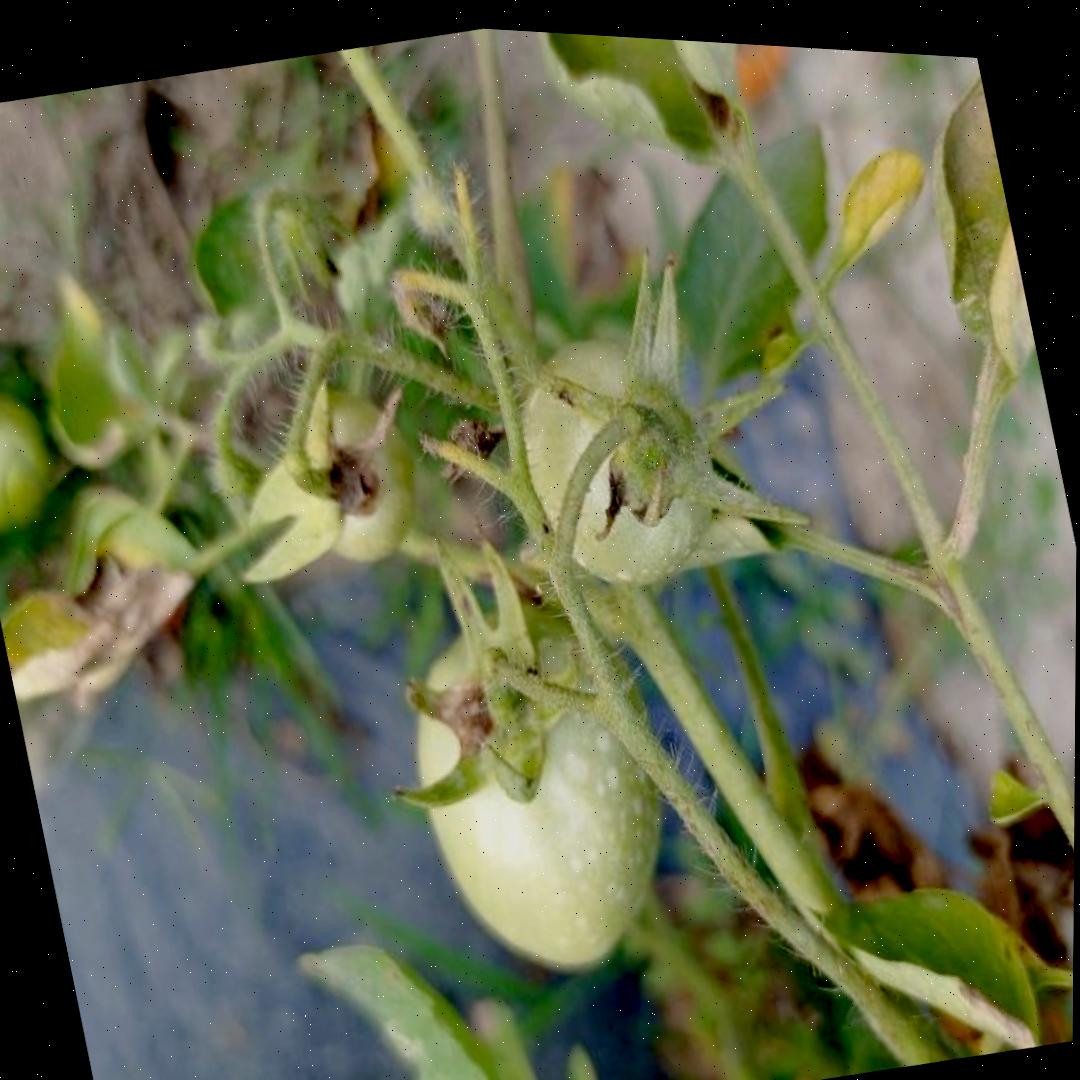mentah: (380, 569, 701, 1001), (495, 312, 731, 615), (276, 372, 433, 582)
